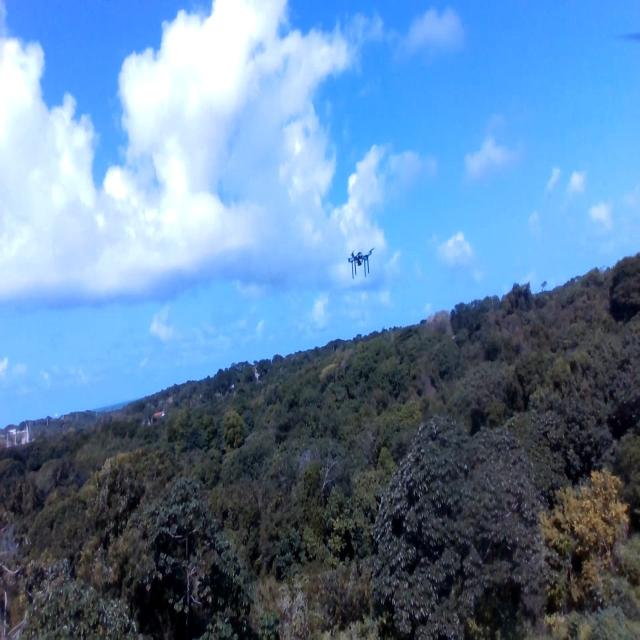-uav-: (342, 240, 379, 284)
